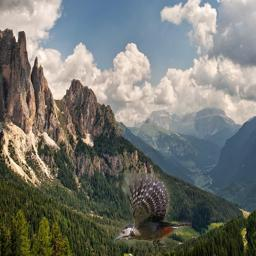Woodpecker: (112, 173, 192, 247)
